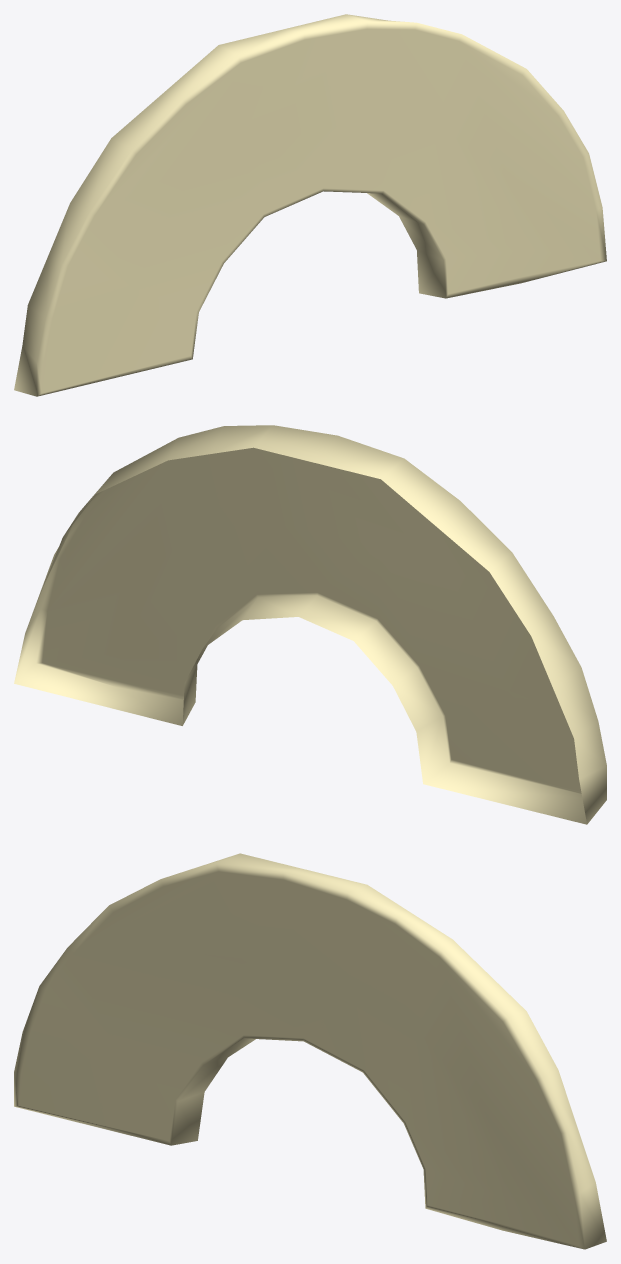
The model's file is ui_radialMenu_2_top.glb.
The picture shows the model from 3 angles, top to bottom: view 1: azimuth 30°, elevation 25°; view 2: azimuth 150°, elevation 25°; view 3: azimuth 330°, elevation 25°; orthographic projection.
Parts seen in each view (by area): view 1: main2_top; view 2: main2_top; view 3: main2_top.
Boxes of the visible parts, x1,y1,x2,y2 form: main2_top: (14, 14, 606, 396); main2_top: (14, 425, 606, 824); main2_top: (14, 853, 606, 1249).
Bounding box in the file's own units: 1.99 × 1.02 × 0.1363.
